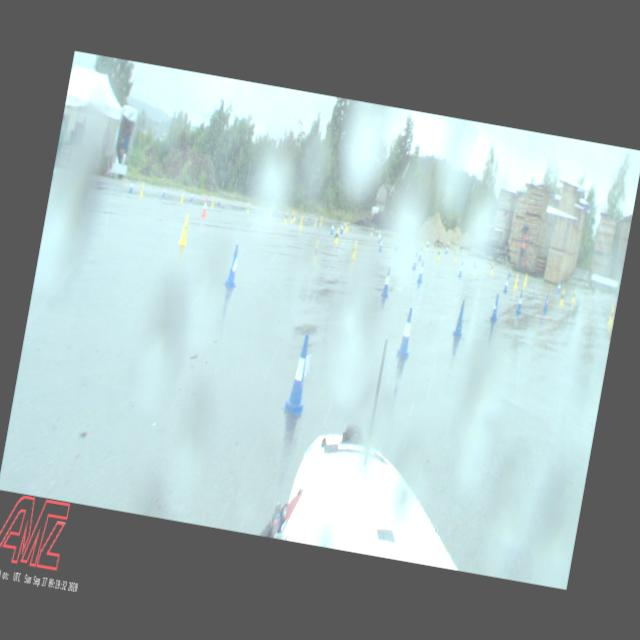blue_cone: (282, 332, 318, 416), (396, 306, 416, 358), (222, 244, 243, 288), (452, 300, 468, 336), (380, 267, 393, 298), (489, 292, 501, 321), (416, 260, 425, 282), (516, 290, 524, 313), (542, 292, 550, 311), (502, 274, 509, 292), (457, 260, 464, 276), (412, 252, 418, 270), (329, 222, 335, 234), (378, 238, 383, 252)
orange_cone: (200, 197, 208, 217)
yellow_cone: (177, 213, 191, 246), (310, 239, 320, 266), (350, 240, 358, 260), (558, 288, 566, 306), (334, 228, 341, 245), (608, 307, 614, 325), (298, 214, 304, 232), (472, 260, 478, 274), (512, 275, 518, 289), (570, 289, 576, 302), (522, 273, 528, 286), (488, 262, 494, 274), (436, 247, 441, 260)
